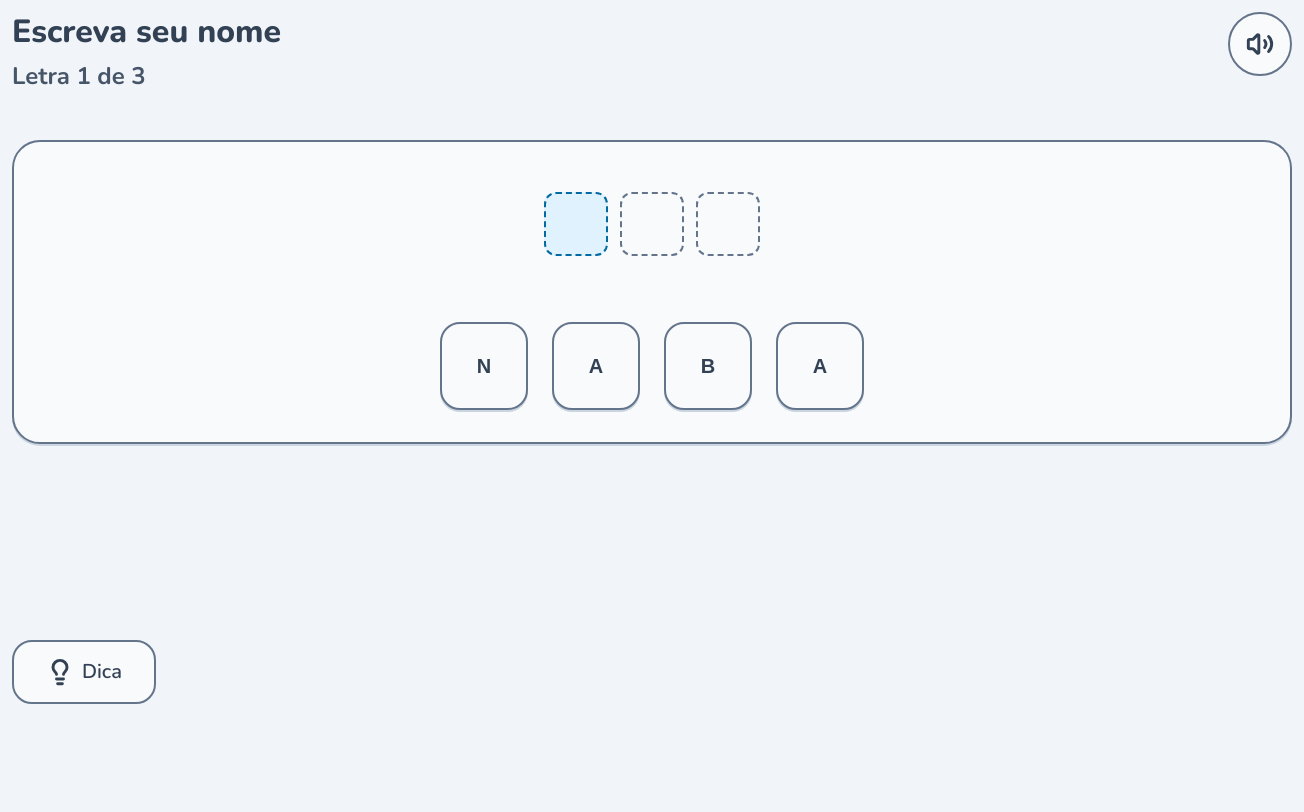
Test: NameRunner › falha de telemetria não trava a criança
Click the 1st button "A" at (596, 366), box [552,322,640,410]
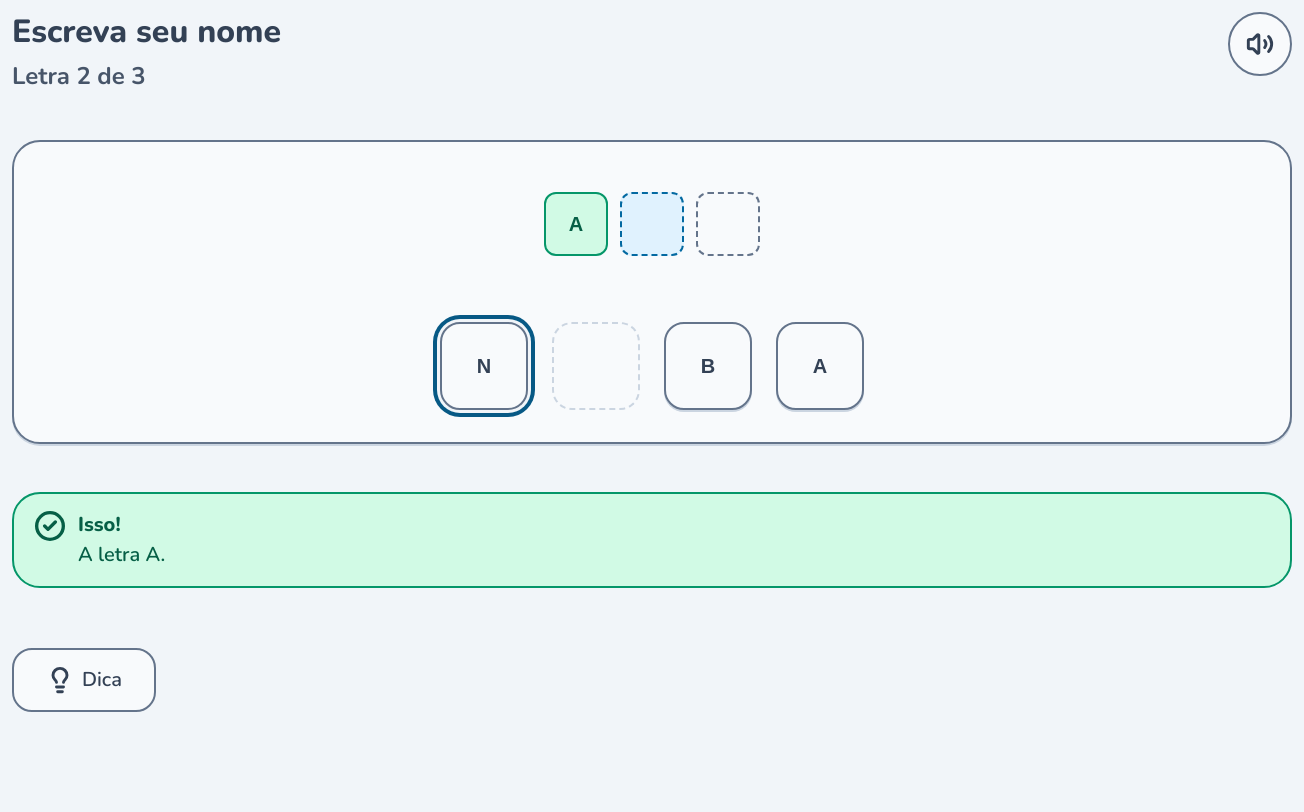
Check: the message shows "Isso!", box [78,511,121,538]
